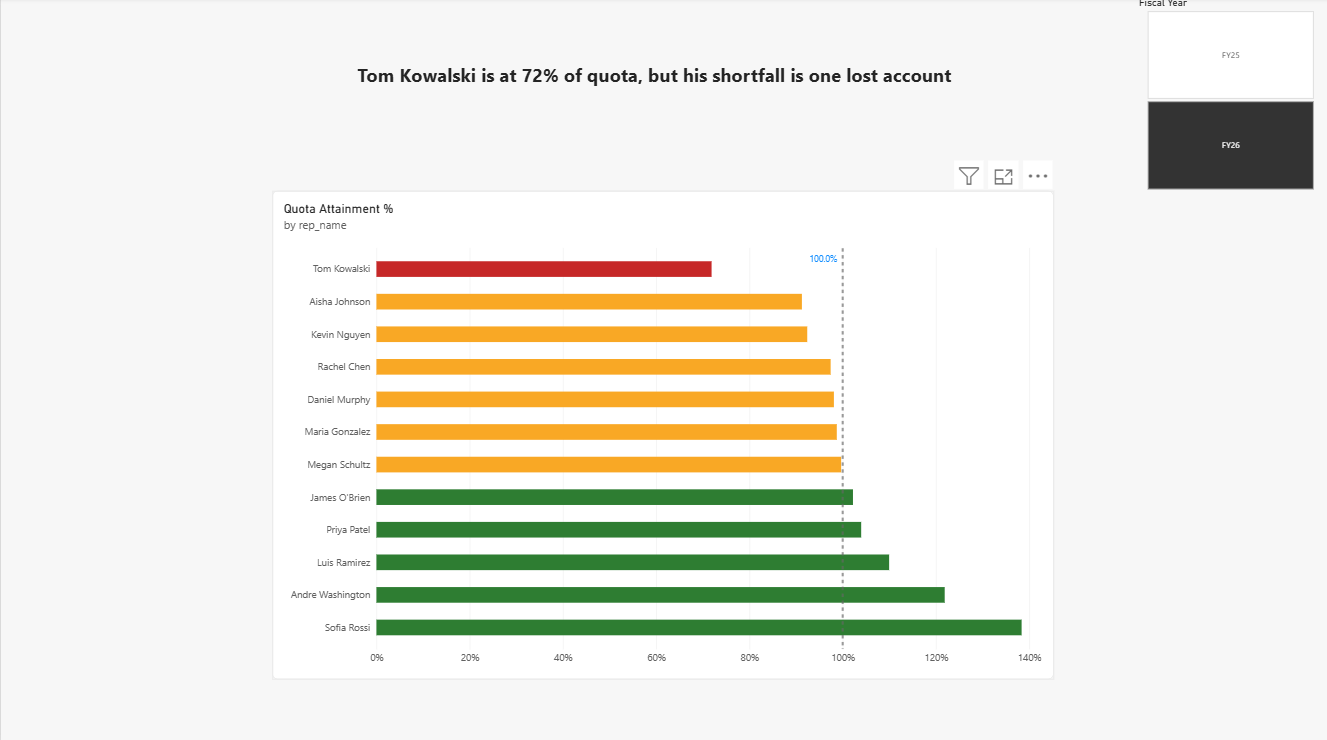

The dashboard page shown, as its layout file describes it:
{"tool":"powerbi","page":{"name":"Sales Team","canvas":[1920,1080],"ordinal":2},"visuals":[{"type":"slicer","fields":{"Values":["dim_date.Fiscal Year"]},"box":[1640,0,280,280],"z":0},{"type":"clusteredBarChart","fields":{"Category":["dim_sales_reps.rep_name"],"Y":["Key Measures.Quota Attainment %"]},"box":[392.7,280.5,1131,707.6],"z":1},{"type":"textbox","box":[515.8,94.1,884.9,90.5],"z":2}]}

Visuals, with their boxes on the page's 1920x1080 design canvas (x1, y1, x2, y2). These are canvas units, not pixel positions in the 1327x740 screenshot, which may show the page scaled, cropped or inside an application window:
slicer - dim_date.Fiscal Year: region(1640, 0, 1920, 280)
clusteredBarChart - dim_sales_reps.rep_name x Key Measures.Quota Attainment %: region(393, 280, 1524, 988)
textbox: region(516, 94, 1401, 185)
